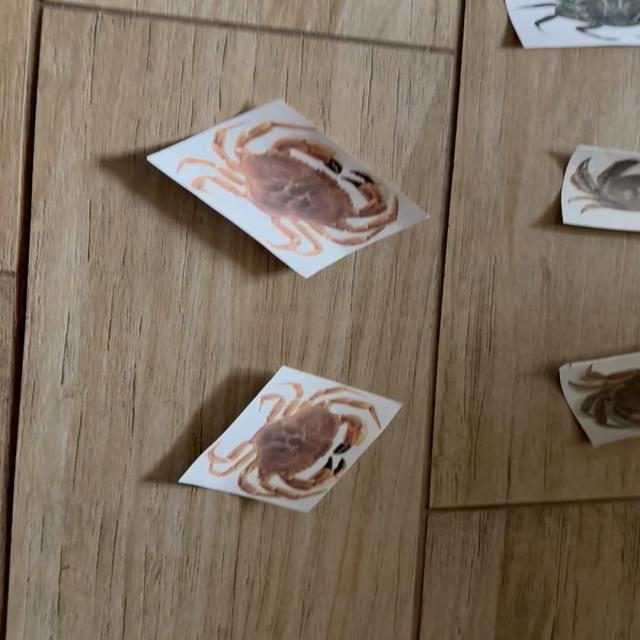egc: (505, 0, 639, 48)
